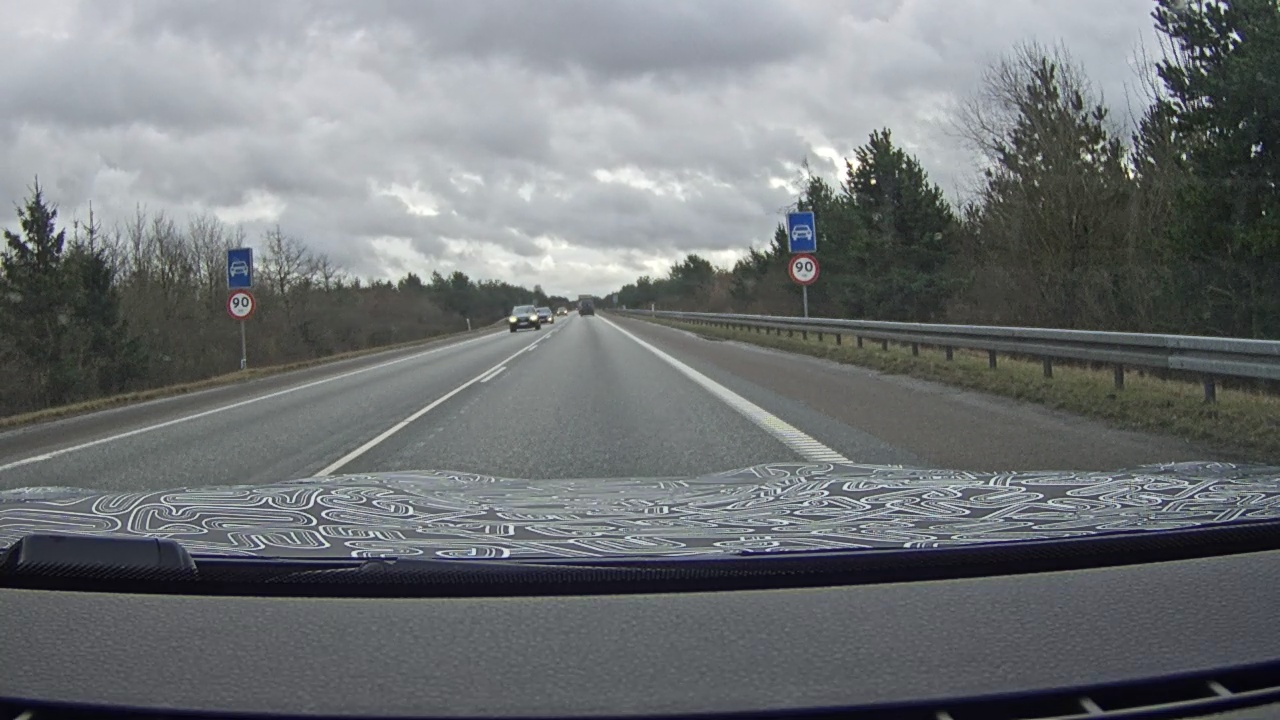Expressway_Begin: (786, 211, 817, 255), (227, 248, 253, 288)
